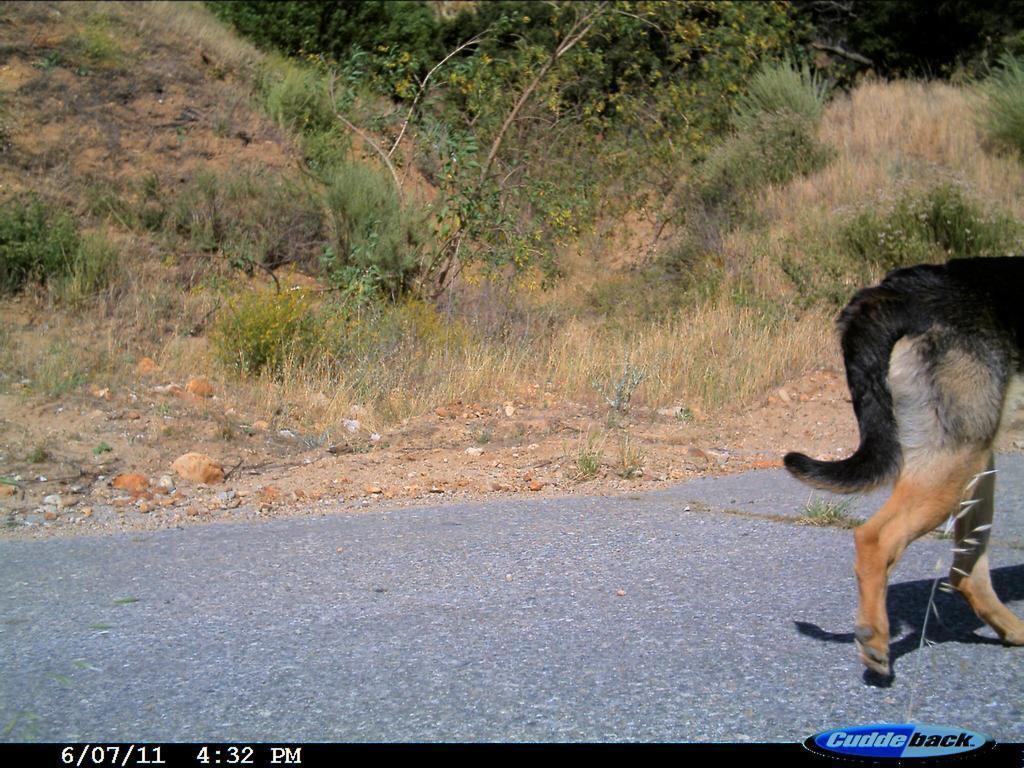coyote: (784, 253, 1023, 693)
